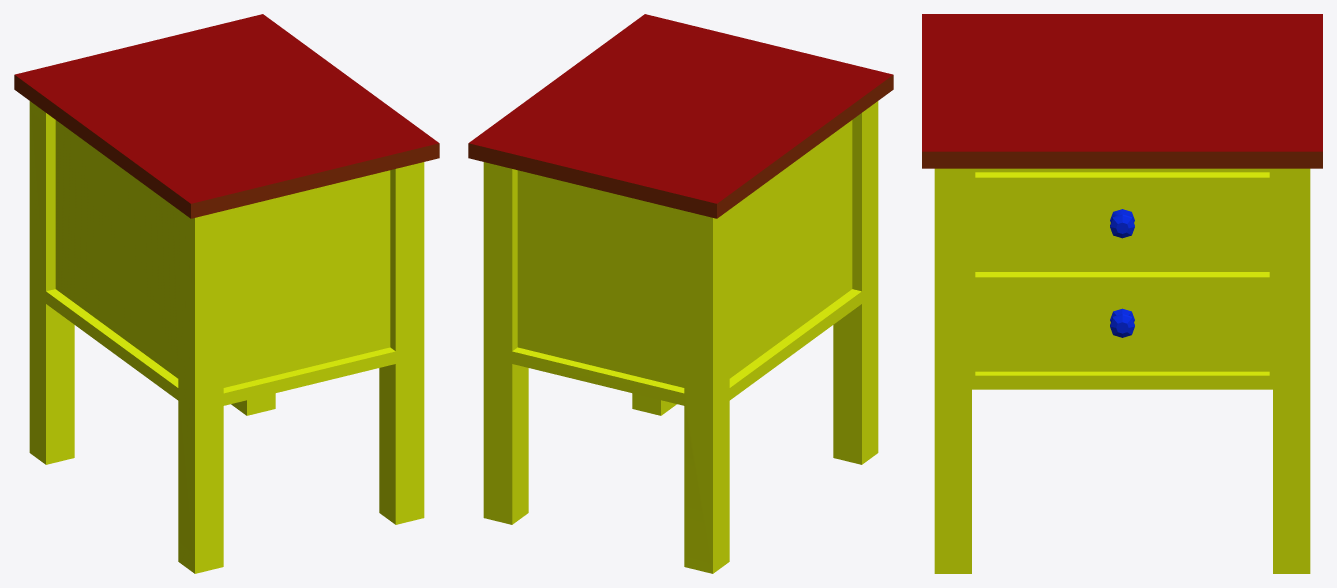
Rendered from Nightstand (Fixed V2).fbx.
3 views of the same model, side by side, from view 1: azimuth 30°, elevation 25°; view 2: azimuth 150°, elevation 25°; view 3: azimuth 270°, elevation 25° (orthographic). The views are drawn at different scales.
Visible parts, largest first — view 1: Nightstand; view 2: Nightstand; view 3: Nightstand.
Part boxes in pixels (x1,y1,x2,y2): Nightstand: [14, 14, 439, 573]; Nightstand: [468, 14, 893, 573]; Nightstand: [922, 14, 1322, 573].
Bounding box in the file's own units: 26.51 × 37.65 × 32.
